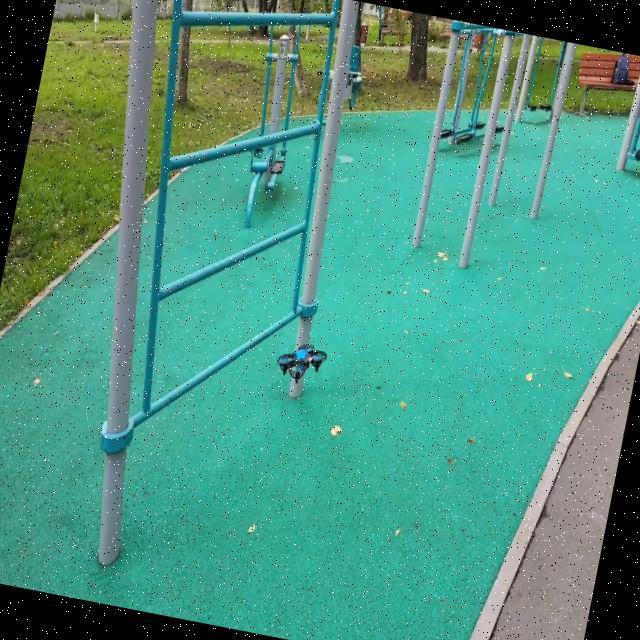Drons: (268, 334, 333, 392)
